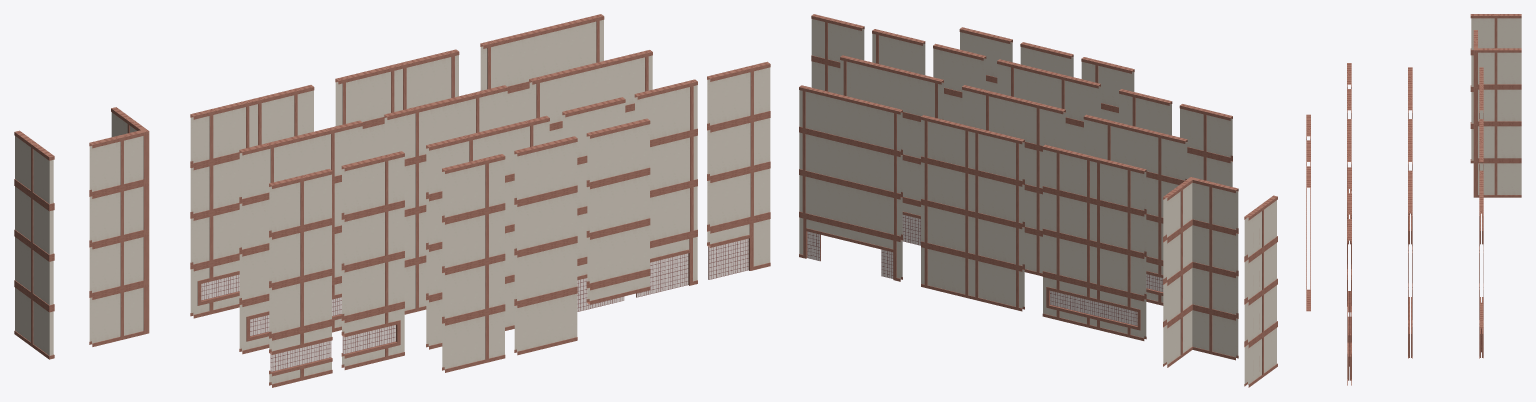
File: Set_paredes.fbx
3 views of the same model, side by side, from view 1: azimuth 30°, elevation 25°; view 2: azimuth 150°, elevation 25°; view 3: azimuth 270°, elevation 25° (orthographic). The views are drawn at different scales.
Visible parts, largest first — view 1: x4_Ventana_x10_v1, x4_Base_x5, x4_Esquina, x4_Pared_Puerta_v2, x4_Ventana_Esquina, x4_Base_x5_Soporte, x4_Ventana_Centro, x4_Ventana_x10_v2, x4_Puerta_Centro, x4_Pared_Puerta_v1, x4_Base_x10_v2, x4_Base_x10_v1 (+5 smaller); view 2: x4_Ventana_x10_v1, x4_Base_x10_v3, x4_Puerta_Abierta, x4_Esquina, x4_Ventana_x10_v2, x4_Base_x10_v2, x4_Puerta_Cerrada, x4_Lateral, x4_Base_x10_v1, x4_Ventana_Centro, x4_Pared_Puerta_v2, x4_Pared_Puerta_Centro (+5 smaller); view 3: x4_Esquina, x4_Lateral, x4_Puerta_Abierta, x4_Puerta_Cerrada, x4_Pared_Puerta_v2, x4_Base_x10_v1, x4_Puerta_Centro, x4_Ventana_x10_v1, x4_Ventana_x10_v2, x4_Base_x10_v2, x4_Base_x10_v3, x4_Pared_Puerta_v1 (+1 smaller).
Part boxes in pixels (x1=…): x4_Ventana_x10_v1: x1=190, y1=85, x2=314, y2=318; x4_Base_x5: x1=514, y1=136, x2=577, y2=355; x4_Esquina: x1=89, y1=107, x2=149, y2=346; x4_Pared_Puerta_v2: x1=707, y1=61, x2=770, y2=279; x4_Ventana_Esquina: x1=341, y1=151, x2=404, y2=369; x4_Base_x5_Soporte: x1=442, y1=154, x2=505, y2=372; x4_Ventana_Centro: x1=269, y1=169, x2=332, y2=387; x4_Ventana_x10_v2: x1=239, y1=120, x2=362, y2=354; x4_Puerta_Centro: x1=586, y1=118, x2=650, y2=304; x4_Pared_Puerta_v1: x1=634, y1=79, x2=697, y2=297; x4_Base_x10_v2: x1=384, y1=85, x2=507, y2=314; x4_Base_x10_v1: x1=426, y1=115, x2=549, y2=349; x4_Ventana_x10_v1: x1=1042, y1=144, x2=1146, y2=340; x4_Base_x10_v3: x1=921, y1=115, x2=1024, y2=311; x4_Puerta_Abierta: x1=799, y1=85, x2=902, y2=281; x4_Esquina: x1=1163, y1=177, x2=1238, y2=367; x4_Ventana_x10_v2: x1=1083, y1=114, x2=1187, y2=305; x4_Base_x10_v2: x1=962, y1=85, x2=1065, y2=276; x4_Puerta_Cerrada: x1=840, y1=55, x2=943, y2=245; x4_Lateral: x1=1244, y1=195, x2=1277, y2=387; x4_Base_x10_v1: x1=997, y1=59, x2=1100, y2=153; x4_Ventana_Centro: x1=1179, y1=104, x2=1232, y2=186; x4_Pared_Puerta_v2: x1=811, y1=14, x2=864, y2=94; x4_Pared_Puerta_Centro: x1=933, y1=43, x2=986, y2=124; x4_Esquina: x1=1473, y1=30, x2=1521, y2=197; x4_Lateral: x1=1470, y1=14, x2=1521, y2=163; x4_Puerta_Abierta: x1=1479, y1=170, x2=1483, y2=358; x4_Puerta_Cerrada: x1=1408, y1=170, x2=1412, y2=358; x4_Pared_Puerta_v2: x1=1347, y1=219, x2=1351, y2=385; x4_Base_x10_v1: x1=1347, y1=119, x2=1351, y2=306; x4_Puerta_Centro: x1=1306, y1=166, x2=1310, y2=311; x4_Ventana_x10_v1: x1=1479, y1=67, x2=1483, y2=244; x4_Ventana_x10_v2: x1=1408, y1=67, x2=1412, y2=244; x4_Base_x10_v2: x1=1408, y1=119, x2=1412, y2=170; x4_Base_x10_v3: x1=1479, y1=119, x2=1483, y2=170; x4_Pared_Puerta_v1: x1=1347, y1=193, x2=1351, y2=342.
Size of the model in its own units: 5272 by 1600 by 2115.
Materials: 4 (4 with a texture image).
